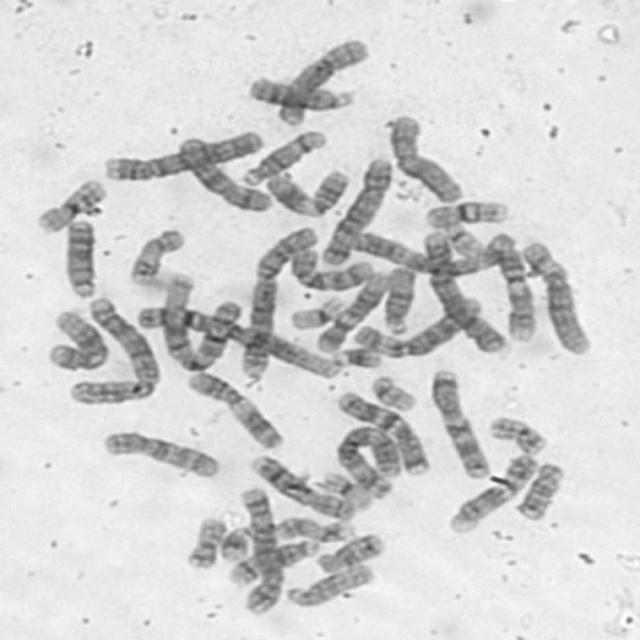A1: (133, 299, 344, 381), (150, 267, 242, 373)
A2: (236, 221, 322, 382), (60, 296, 166, 406)
A3: (343, 226, 522, 277), (332, 421, 405, 501)
B4: (416, 225, 512, 354), (94, 124, 266, 184)
B5: (312, 152, 393, 267), (233, 483, 284, 616)
C10: (97, 425, 224, 480), (283, 244, 378, 292)
C11: (180, 366, 288, 451), (260, 163, 353, 219)
C12: (310, 266, 391, 354), (40, 303, 113, 373)
C6: (516, 236, 596, 356), (348, 292, 487, 360)
C7: (330, 385, 434, 476), (424, 363, 496, 479)
C8: (271, 34, 374, 128), (244, 449, 358, 521)
C9: (444, 449, 543, 535), (482, 234, 538, 344)
D13: (242, 70, 356, 114), (59, 214, 102, 299)
D14: (236, 124, 330, 186), (224, 536, 324, 588)
D15: (280, 558, 378, 608), (378, 261, 419, 336)
E16: (30, 172, 110, 235), (420, 195, 512, 229)
E17: (124, 222, 189, 288), (272, 511, 359, 544)
E18: (511, 456, 569, 522), (312, 528, 388, 574)
F19: (314, 466, 375, 512), (283, 290, 348, 330)
F20: (483, 410, 551, 456), (179, 510, 231, 570)
G21: (328, 341, 387, 370), (215, 522, 255, 564)
G22: (365, 369, 422, 412), (436, 218, 486, 257)
X: (172, 132, 276, 214), (382, 109, 468, 205)
